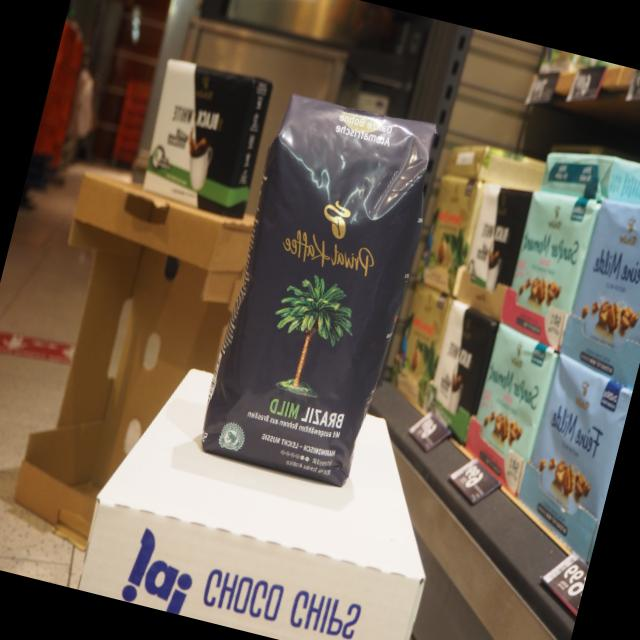BM Bohne: (189, 83, 451, 494)
